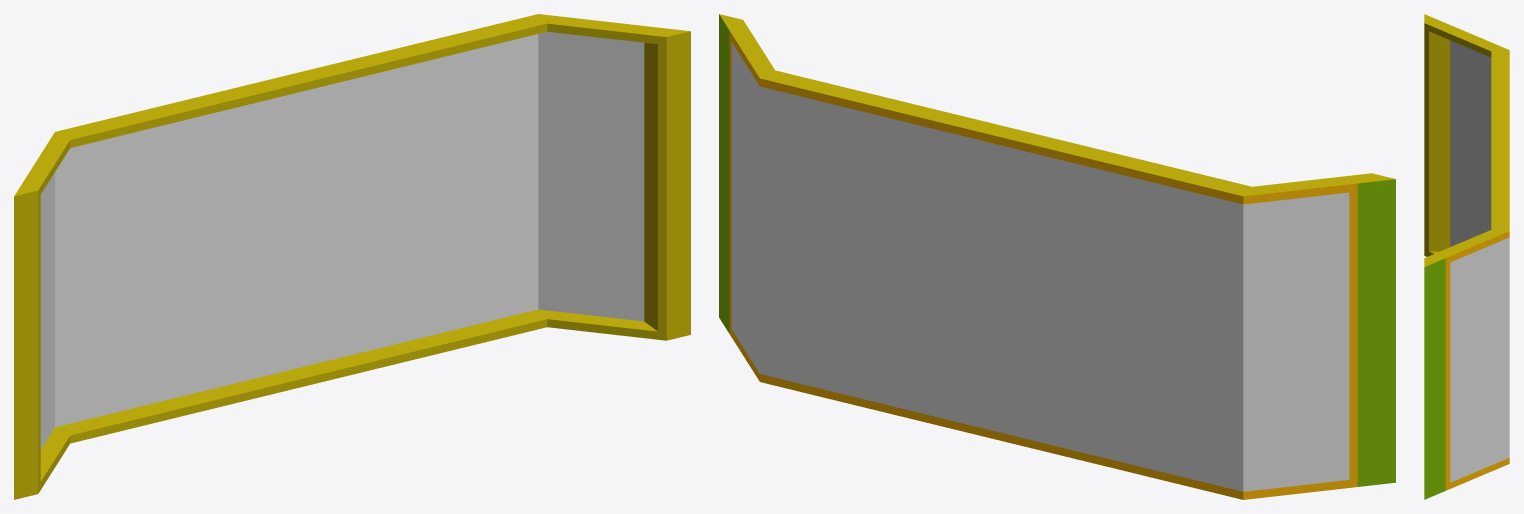
The model's file is window_panoramic_7x1x3.dae.
The picture shows the model from 3 angles, left to right: view 1: azimuth 30°, elevation 25°; view 2: azimuth 150°, elevation 25°; view 3: azimuth 270°, elevation 25°; orthographic projection. The views are drawn at different scales.
Parts seen in each view (by area): view 1: Cube; view 2: Cube; view 3: Cube.
Part boxes in pixels (x1,y1,x2,y2): Cube: [14, 14, 690, 499]; Cube: [719, 14, 1395, 499]; Cube: [1424, 14, 1509, 499].
Bounding box in the file's own units: 1.75 × 0.25 × 0.75.
